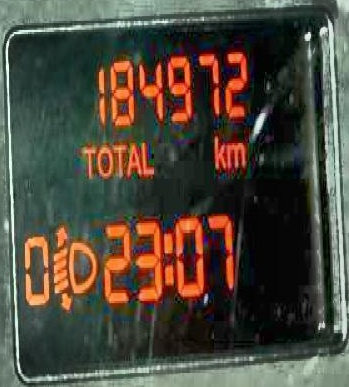0: (174, 216, 203, 296), (21, 232, 48, 307)
1: (95, 65, 105, 125)
2: (101, 221, 130, 303), (223, 49, 246, 116)
3: (132, 219, 160, 301)
4: (137, 61, 162, 121)
7: (206, 214, 232, 289), (198, 49, 219, 114)
8: (109, 58, 134, 125)
9: (165, 54, 191, 120)
X: (95, 143, 112, 178), (161, 229, 172, 283), (125, 140, 141, 176), (79, 143, 95, 178), (111, 140, 126, 176), (225, 140, 245, 167), (140, 138, 154, 174), (212, 134, 225, 167)
